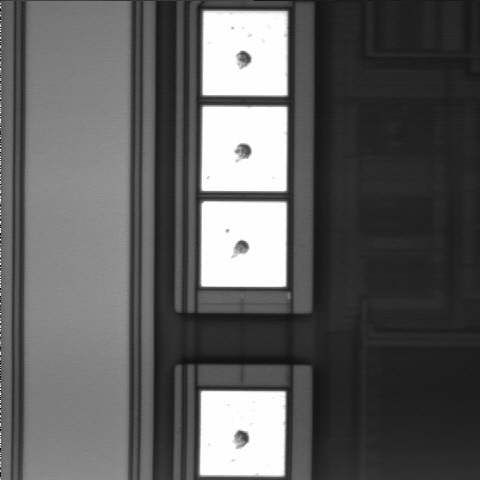pad: (201, 201, 286, 287), (202, 106, 287, 191), (200, 391, 285, 476), (203, 11, 287, 96)
